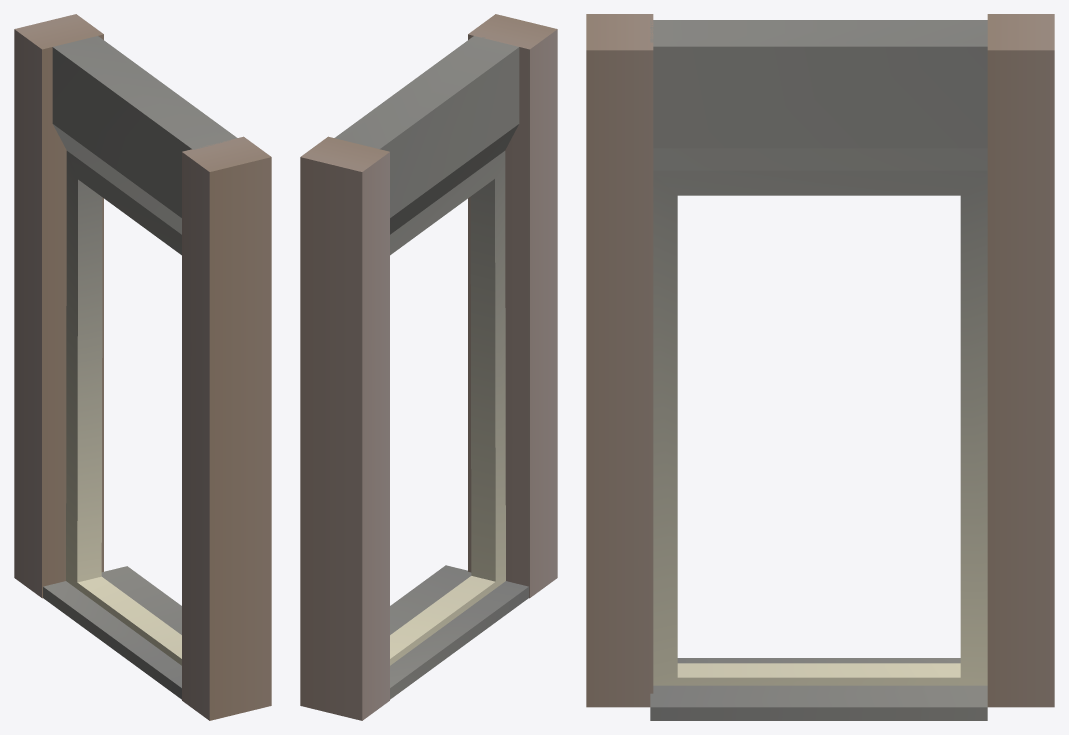
Rendered from B01_cadre_porte_2.fbx.
The picture shows the model from 3 angles, left to right: view 1: azimuth 30°, elevation 25°; view 2: azimuth 150°, elevation 25°; view 3: azimuth 270°, elevation 25°; orthographic projection. The views are drawn at different scales.
Visible parts, largest first — view 1: B01_cadre_porte_2; view 2: B01_cadre_porte_2; view 3: B01_cadre_porte_2.
Part boxes in pixels (left/top/right/bottom): B01_cadre_porte_2: left=14, top=14, right=271, bottom=720; B01_cadre_porte_2: left=300, top=14, right=557, bottom=720; B01_cadre_porte_2: left=586, top=14, right=1054, bottom=720.
Size of the model in its own units: 49.53 by 305 by 197.
